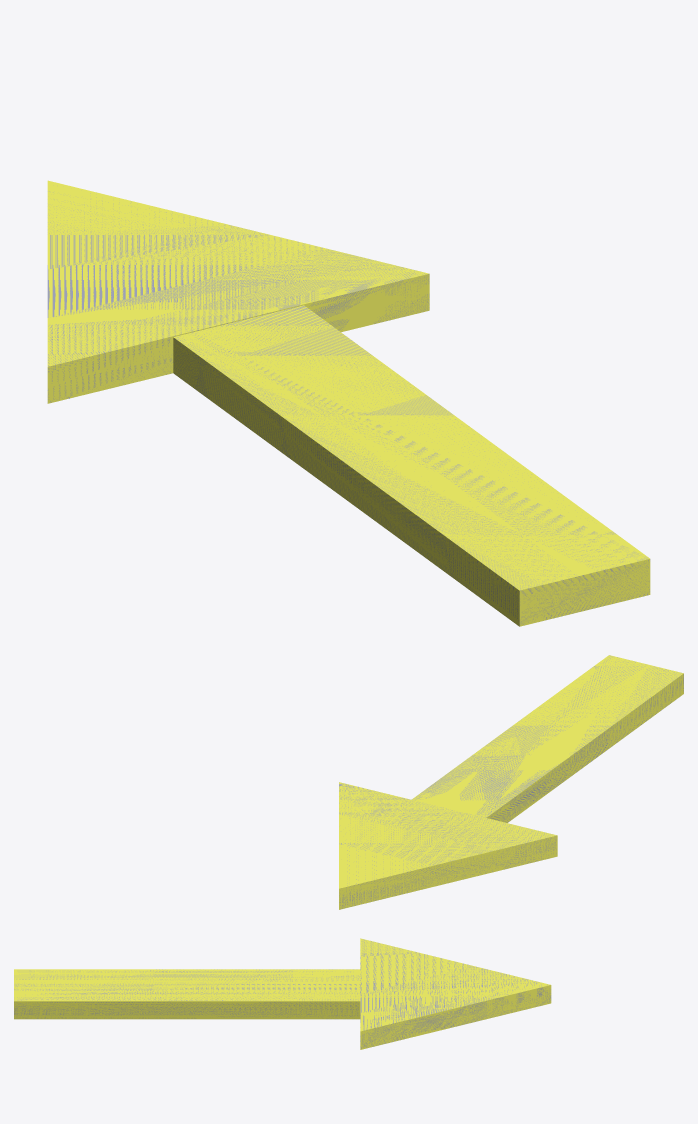
The model's file is arrow.dae.
3 renders of one model, top to bottom at view 1: azimuth 30°, elevation 25°; view 2: azimuth 150°, elevation 25°; view 3: azimuth 270°, elevation 25°, orthographic. The views are drawn at different scales.
Visible parts, largest first — view 1: Model (×2); view 2: Model (×2); view 3: Model (×2).
Boxes of the visible parts, left/top/right/bottom form: Model (×2): left=47, top=180, right=650, bottom=626; Model (×2): left=339, top=655, right=683, bottom=909; Model (×2): left=14, top=938, right=551, bottom=1049.
Bounding box in the file's own units: 16813 × 31156 × 950.
